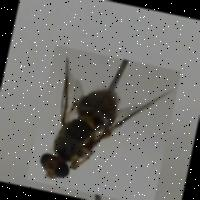Oriental-fruit-fly: (26, 43, 181, 200)
